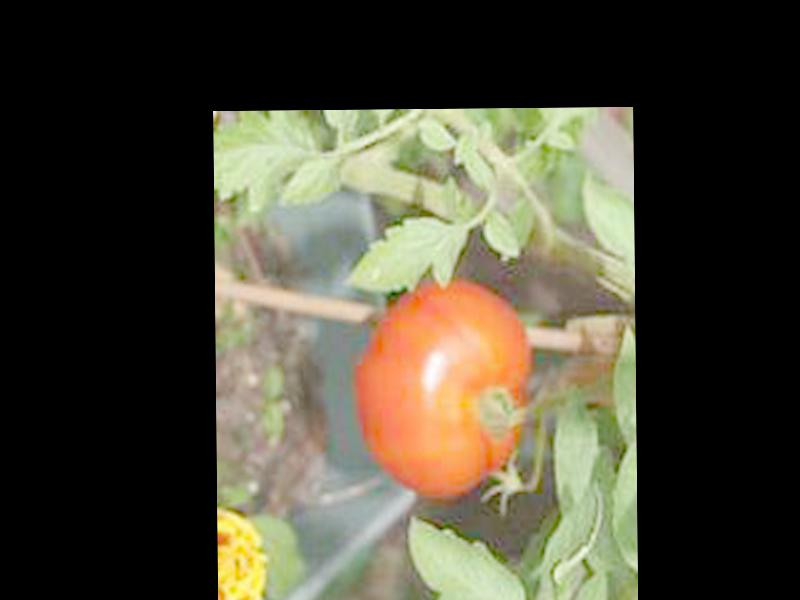Tomato: (356, 276, 534, 500)
